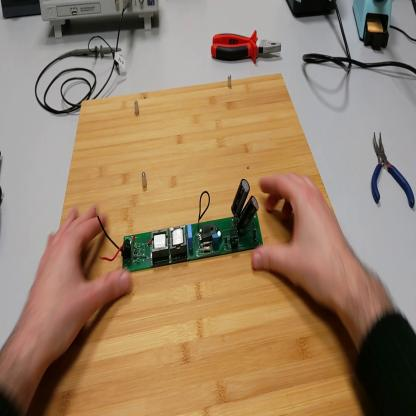hand: (25, 204, 131, 364), (252, 169, 350, 312)
high voltage board: (96, 178, 264, 271)
oscilloscope: (40, 1, 160, 39)
oscilloscope probe tip: (72, 47, 122, 58)
pliers: (368, 132, 416, 210), (211, 31, 284, 68)
socket: (2, 3, 42, 22)
welder base: (354, 2, 394, 55), (287, 2, 339, 19)
working area: (27, 75, 367, 416)
